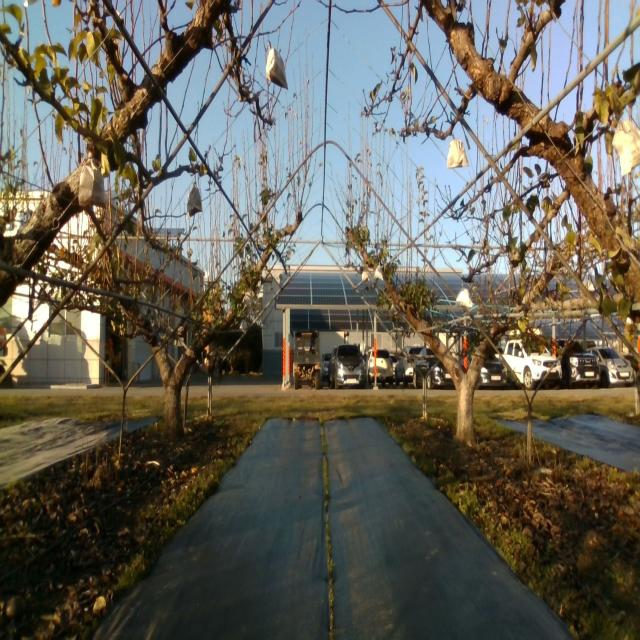pearbags: (611, 118, 640, 173), (78, 157, 108, 208), (266, 41, 288, 88), (446, 132, 468, 168), (185, 182, 203, 220), (456, 284, 472, 310)
